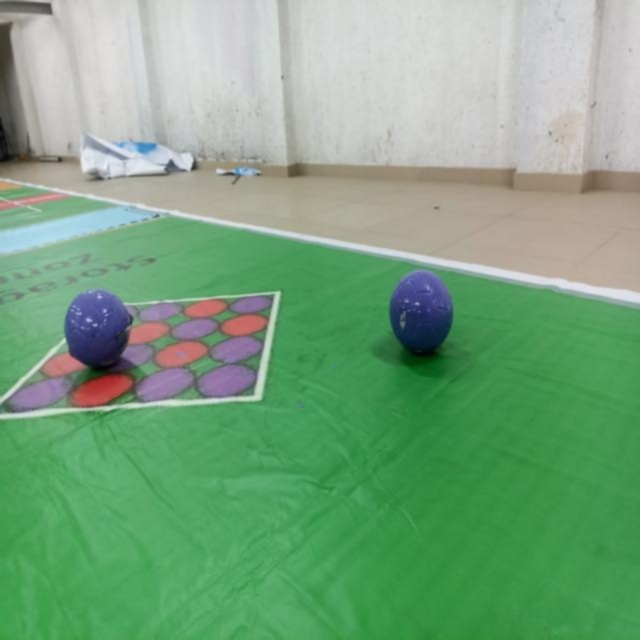purple_ball: (389, 270, 452, 352), (65, 291, 131, 363)
